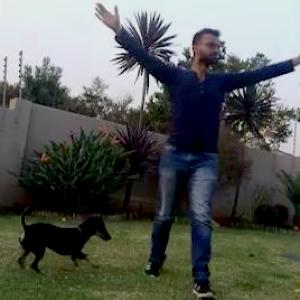takeoff: (112, 0, 294, 291)
